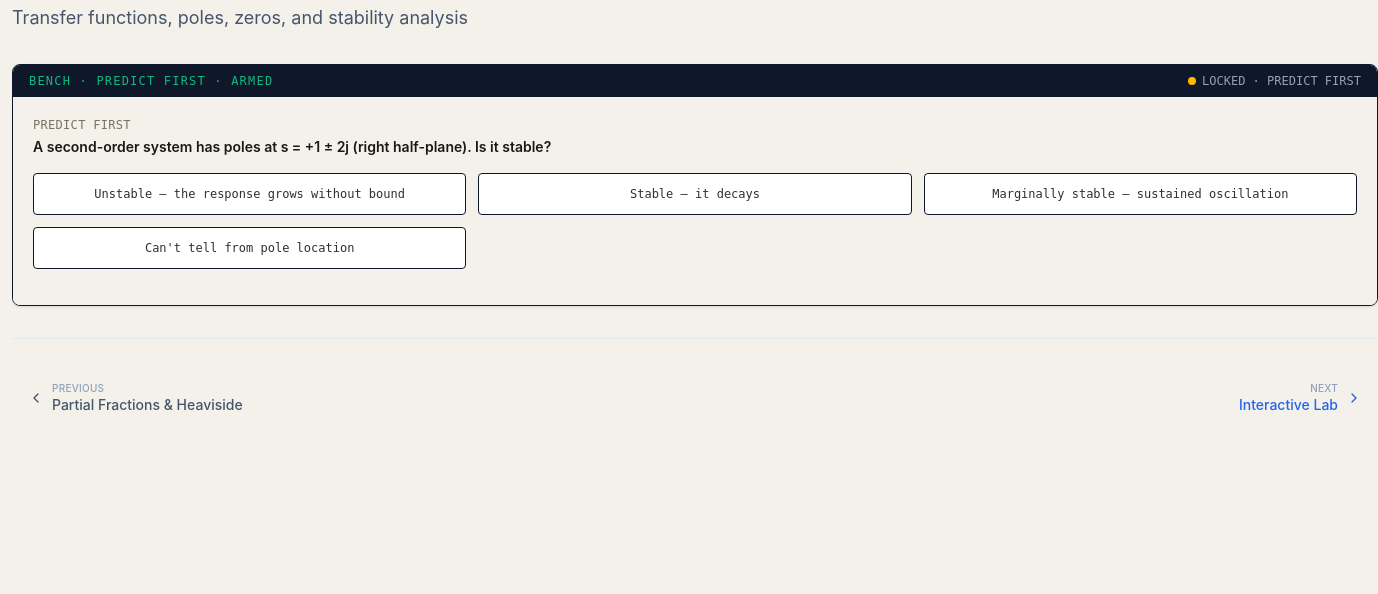
Test: SDomainAnalysis page › allows answering concept check correctly
What coordinates should you click on to do the following:
click the button "Unstable — the response grows without bound"
I would click on:
 (250, 194)
Its box is [33,172,466,214].
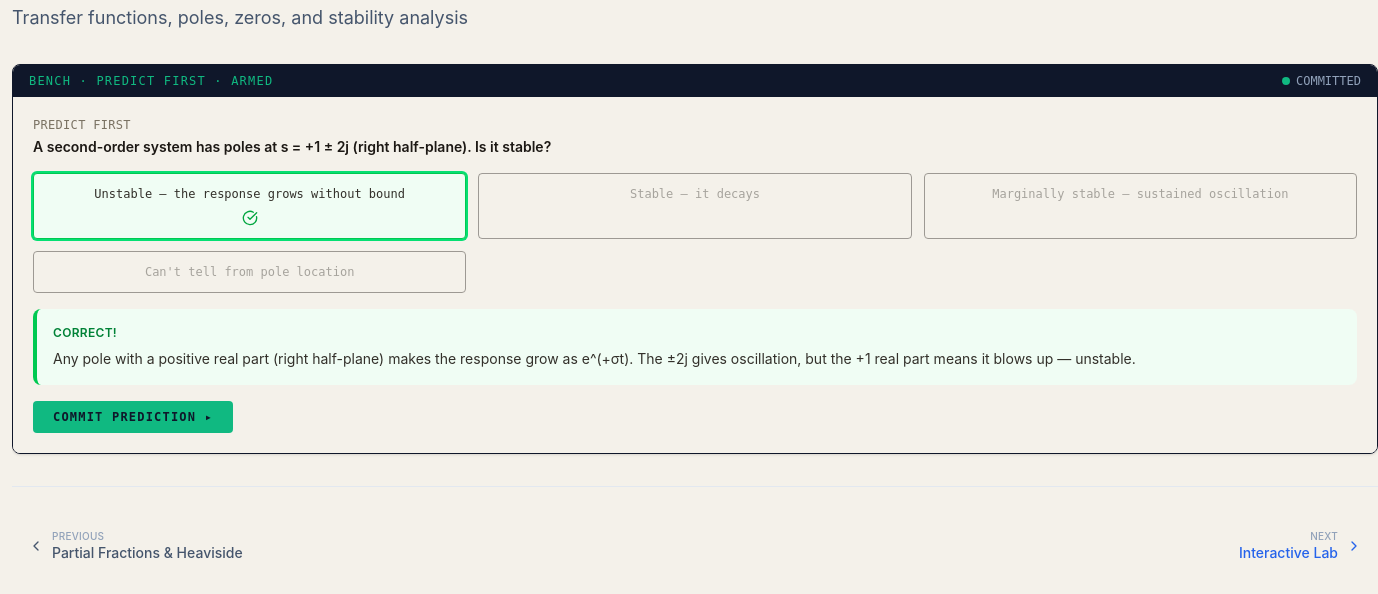
What coordinates should you click on to do the following:
click the button "COMMIT PREDICTION ▸"
I would click on:
 (133, 416)
Its box is [33,400,233,432].
(page scrolled)
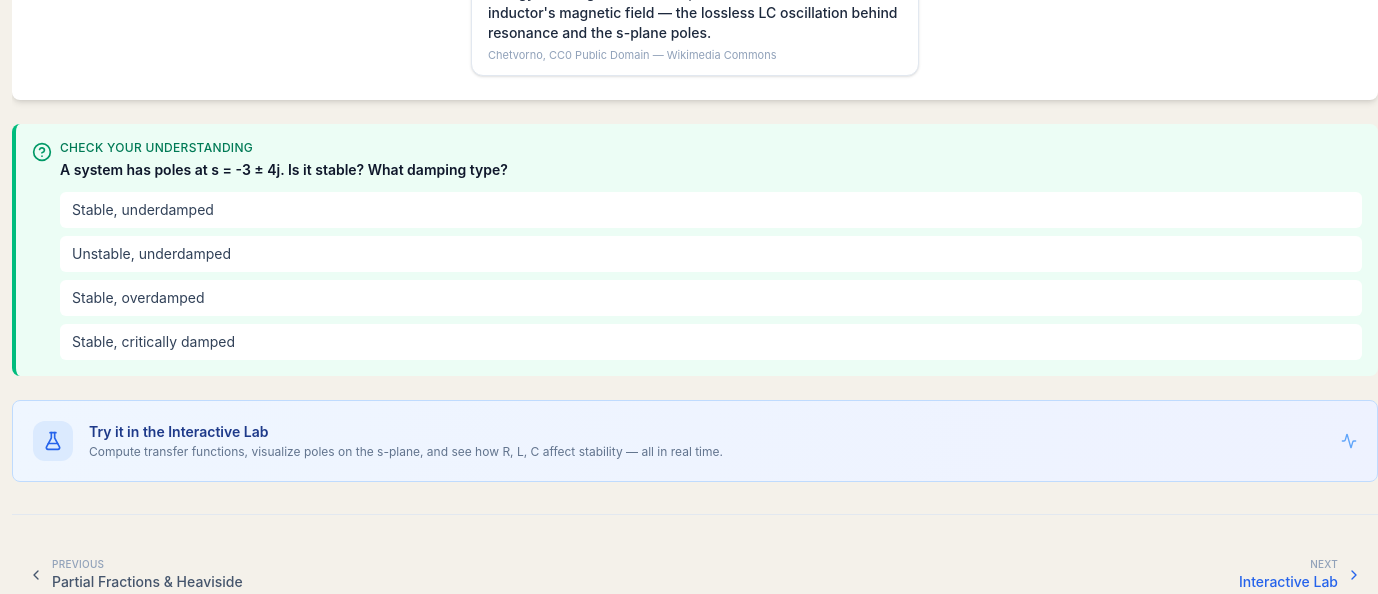
What coordinates should you click on to do the following:
click the button "Stable, underdamped"
I would click on:
 (143, 210)
Its box is [60,192,1362,228].
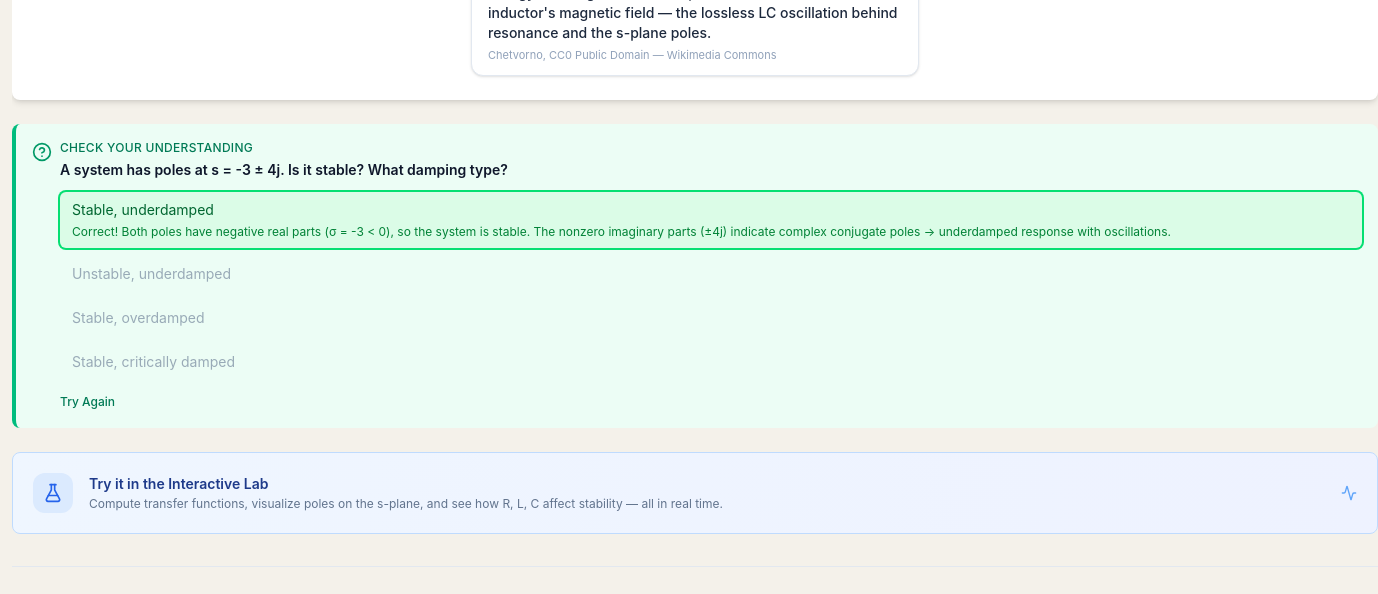
Result: the text "Correct!" is shown at [72,224,1171,239]
